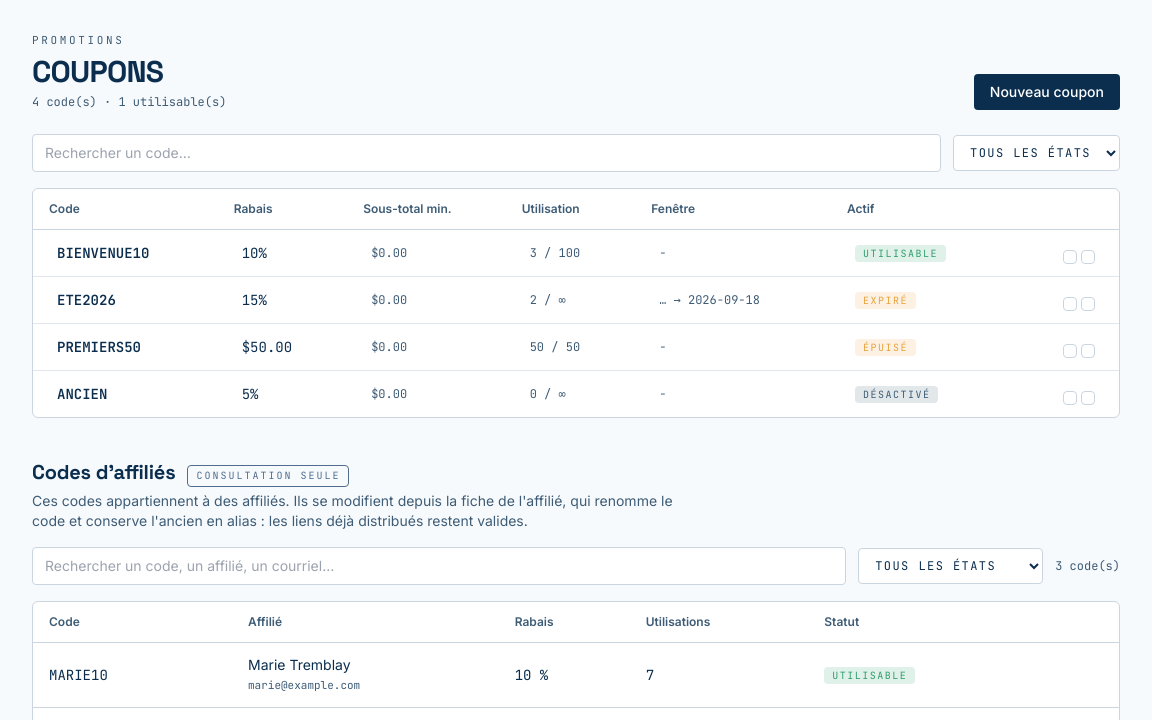
Test: le filtre isole les codes bloques par un compte suspendu
Select "Affilié suspendu" in the dropdown with test id "affiliate-codes-status": x=951, y=566 left=858, top=548, right=1043, bottom=584
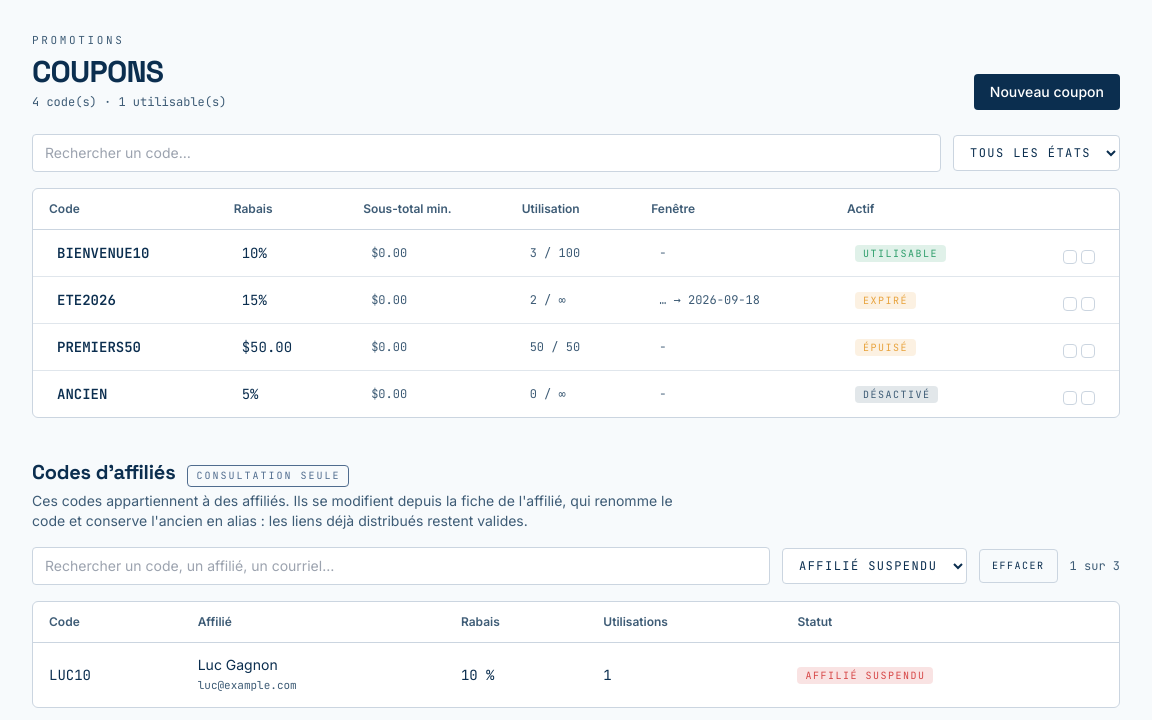
Expected: the row with test id "affiliate-code-row-LUC10" is shown, left=33, top=642, right=1119, bottom=707
Expected: the row with test id "affiliate-code-row-MARIE10" is gone
Select "À venir" in the dropdown with test id "affiliate-codes-status": x=875, y=566 left=782, top=548, right=967, bottom=584
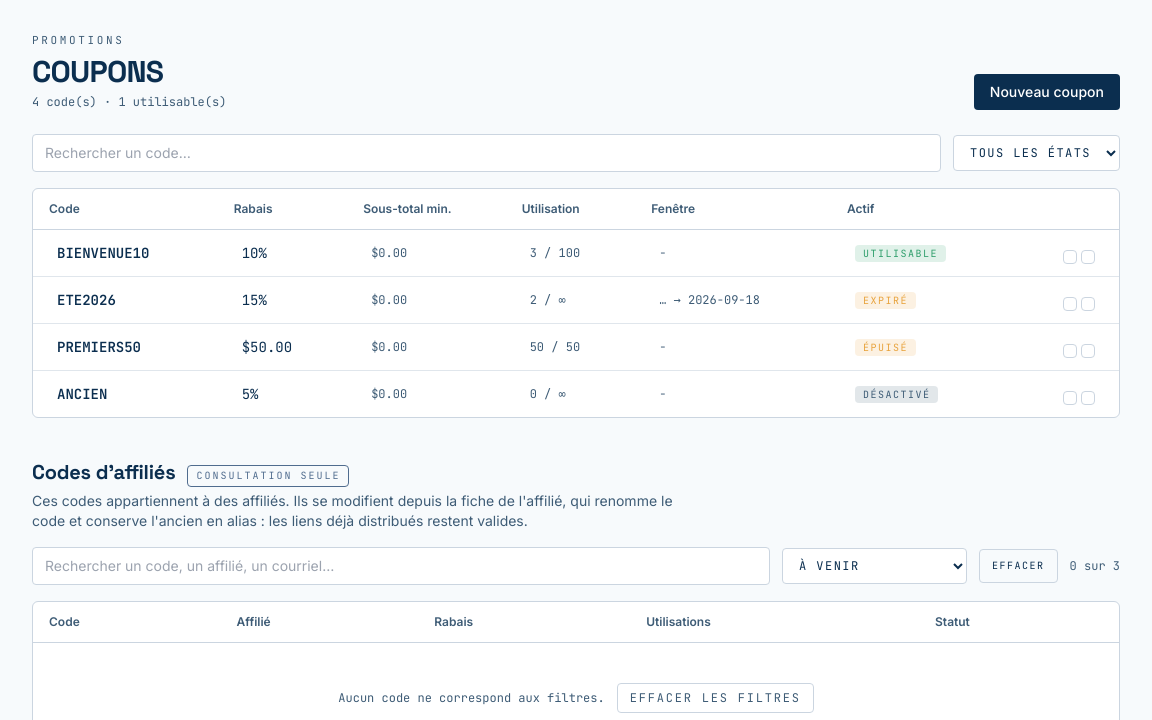
Click the button with test id "affiliate-codes-empty-reset": x=715, y=698 left=617, top=683, right=814, bottom=713
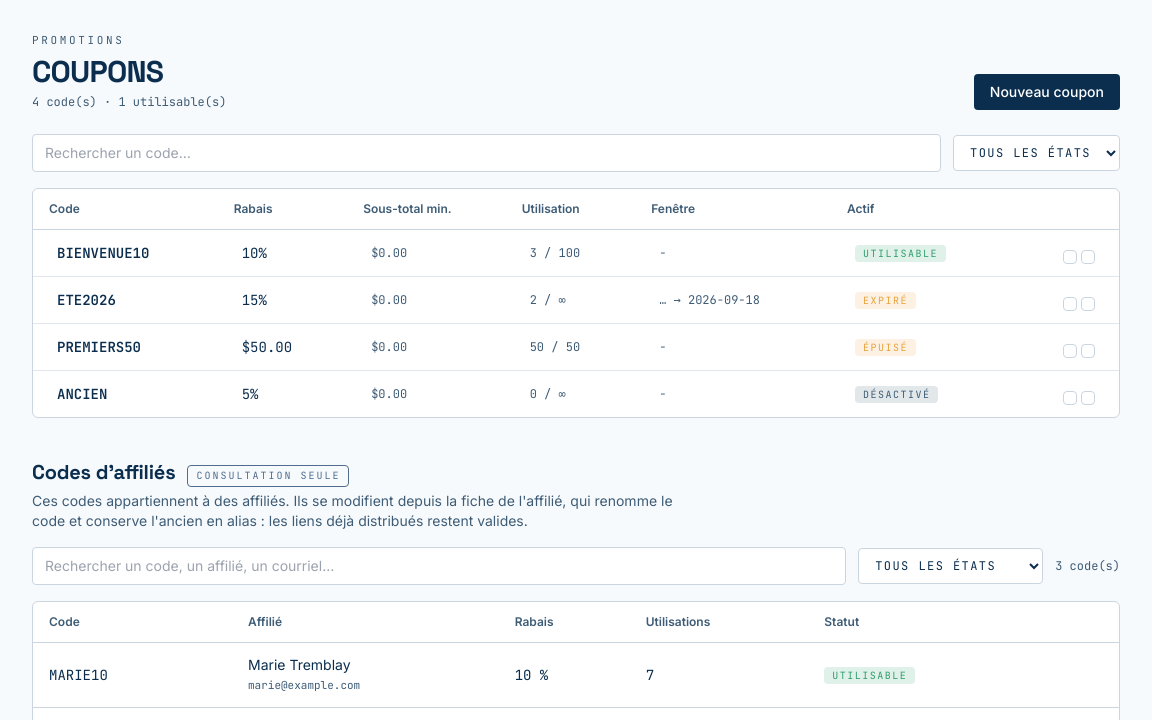
Expected: the row with test id "affiliate-code-row-MARIE10" is shown, left=33, top=642, right=1119, bottom=707
